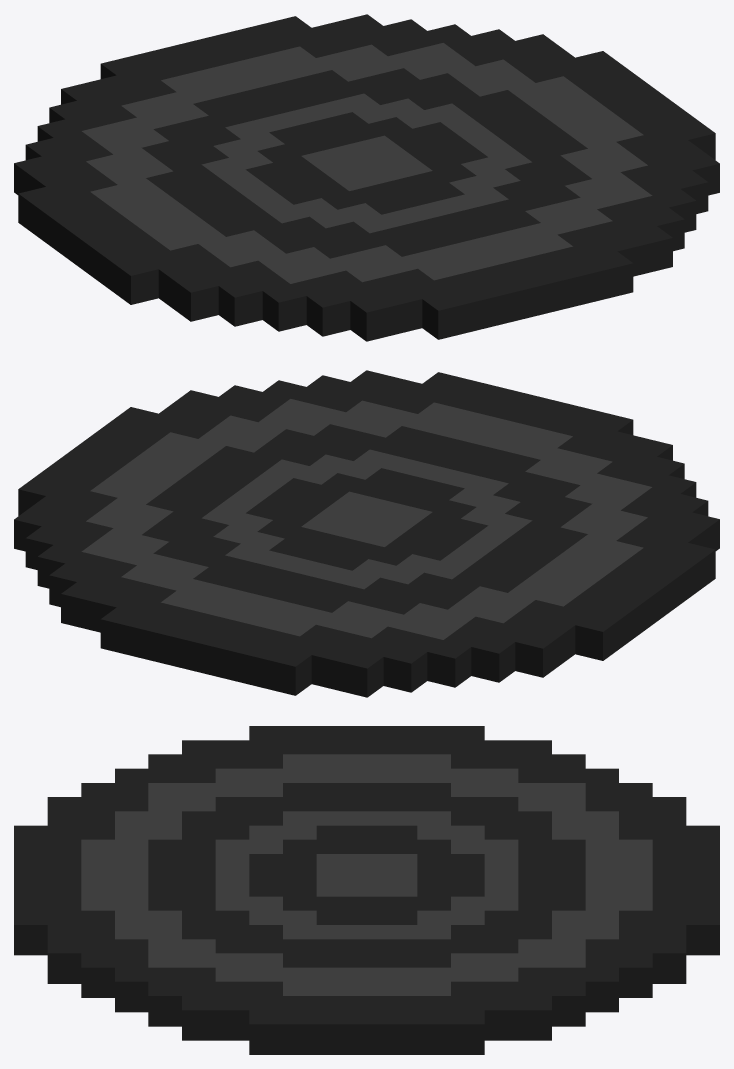
The model's file is trampoline-0.obj.
3 views of the same model, one above another, from view 1: azimuth 30°, elevation 25°; view 2: azimuth 150°, elevation 25°; view 3: azimuth 270°, elevation 25° (orthographic). The views are drawn at different scales.
Size of the model in its own units: 2.1 by 0.1 by 2.1.
1 material, 1 textured.
